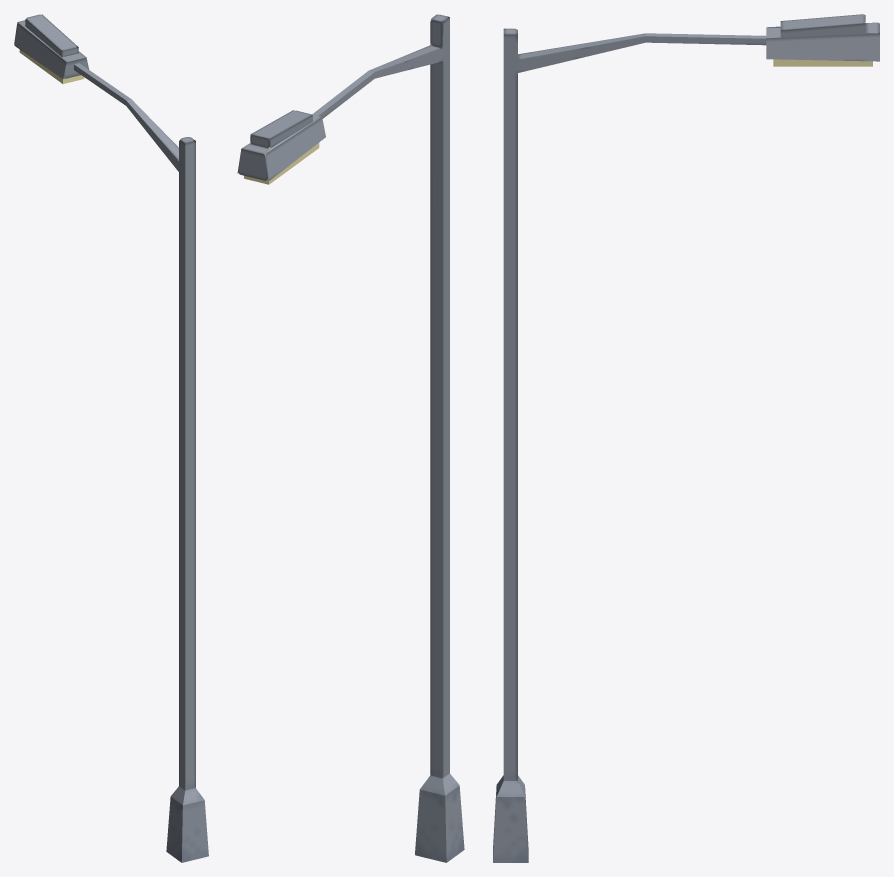
The model's file is Streetlamp.fbx.
3 views of the same model, side by side, from view 1: azimuth 30°, elevation 25°; view 2: azimuth 150°, elevation 25°; view 3: azimuth 270°, elevation 25° (orthographic). The views are drawn at different scales.
Visible parts, largest first — view 1: Post, LightHolder; view 2: Post, LightHolder; view 3: Post, LightHolder.
Boxes of the visible parts, x1,y1,x2,y2 form: Post: (62,56,208,862); LightHolder: (14,14,89,78); Post: (312,14,464,862); LightHolder: (237,110,325,180); Post: (493,28,766,862); LightHolder: (766,14,879,61).
Size of the model in its own units: 15.94 by 406 by 170.
Materials: 2 (2 with a texture image).
